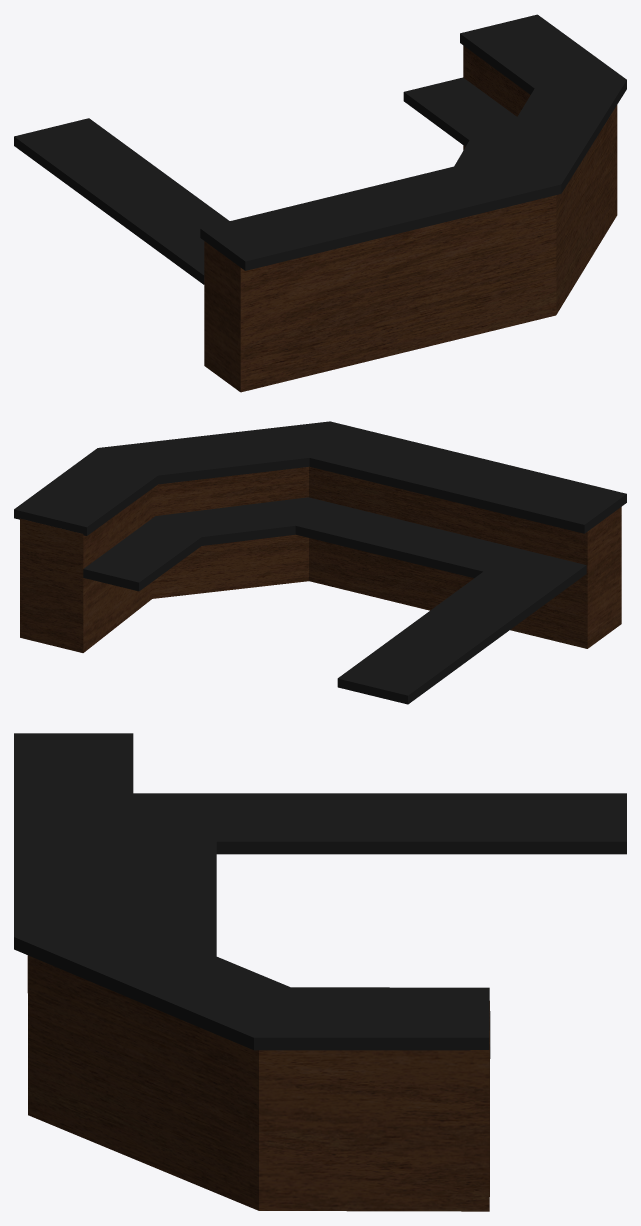
Rendered from receptionDesk.fbx.
The picture shows the model from 3 angles, top to bottom: view 1: azimuth 30°, elevation 25°; view 2: azimuth 150°, elevation 25°; view 3: azimuth 270°, elevation 25°; orthographic projection. The views are drawn at different scales.
Parts seen in each view (by area): view 1: deskBase, deskTop, centerDesk; view 2: deskBase, centerDesk, deskTop; view 3: deskBase, deskTop, centerDesk.
Boxes of the visible parts, x1,y1,x2,y2 form: deskBase: [204, 45, 617, 392]; deskTop: [200, 14, 626, 270]; centerDesk: [14, 77, 516, 284]; deskBase: [20, 466, 621, 652]; centerDesk: [83, 497, 586, 704]; deskTop: [14, 421, 626, 535]; deskBase: [27, 955, 489, 1211]; deskTop: [14, 733, 489, 1050]; centerDesk: [133, 793, 626, 1058].
Size of the model in its own units: 6 by 1.64 by 5.1.
